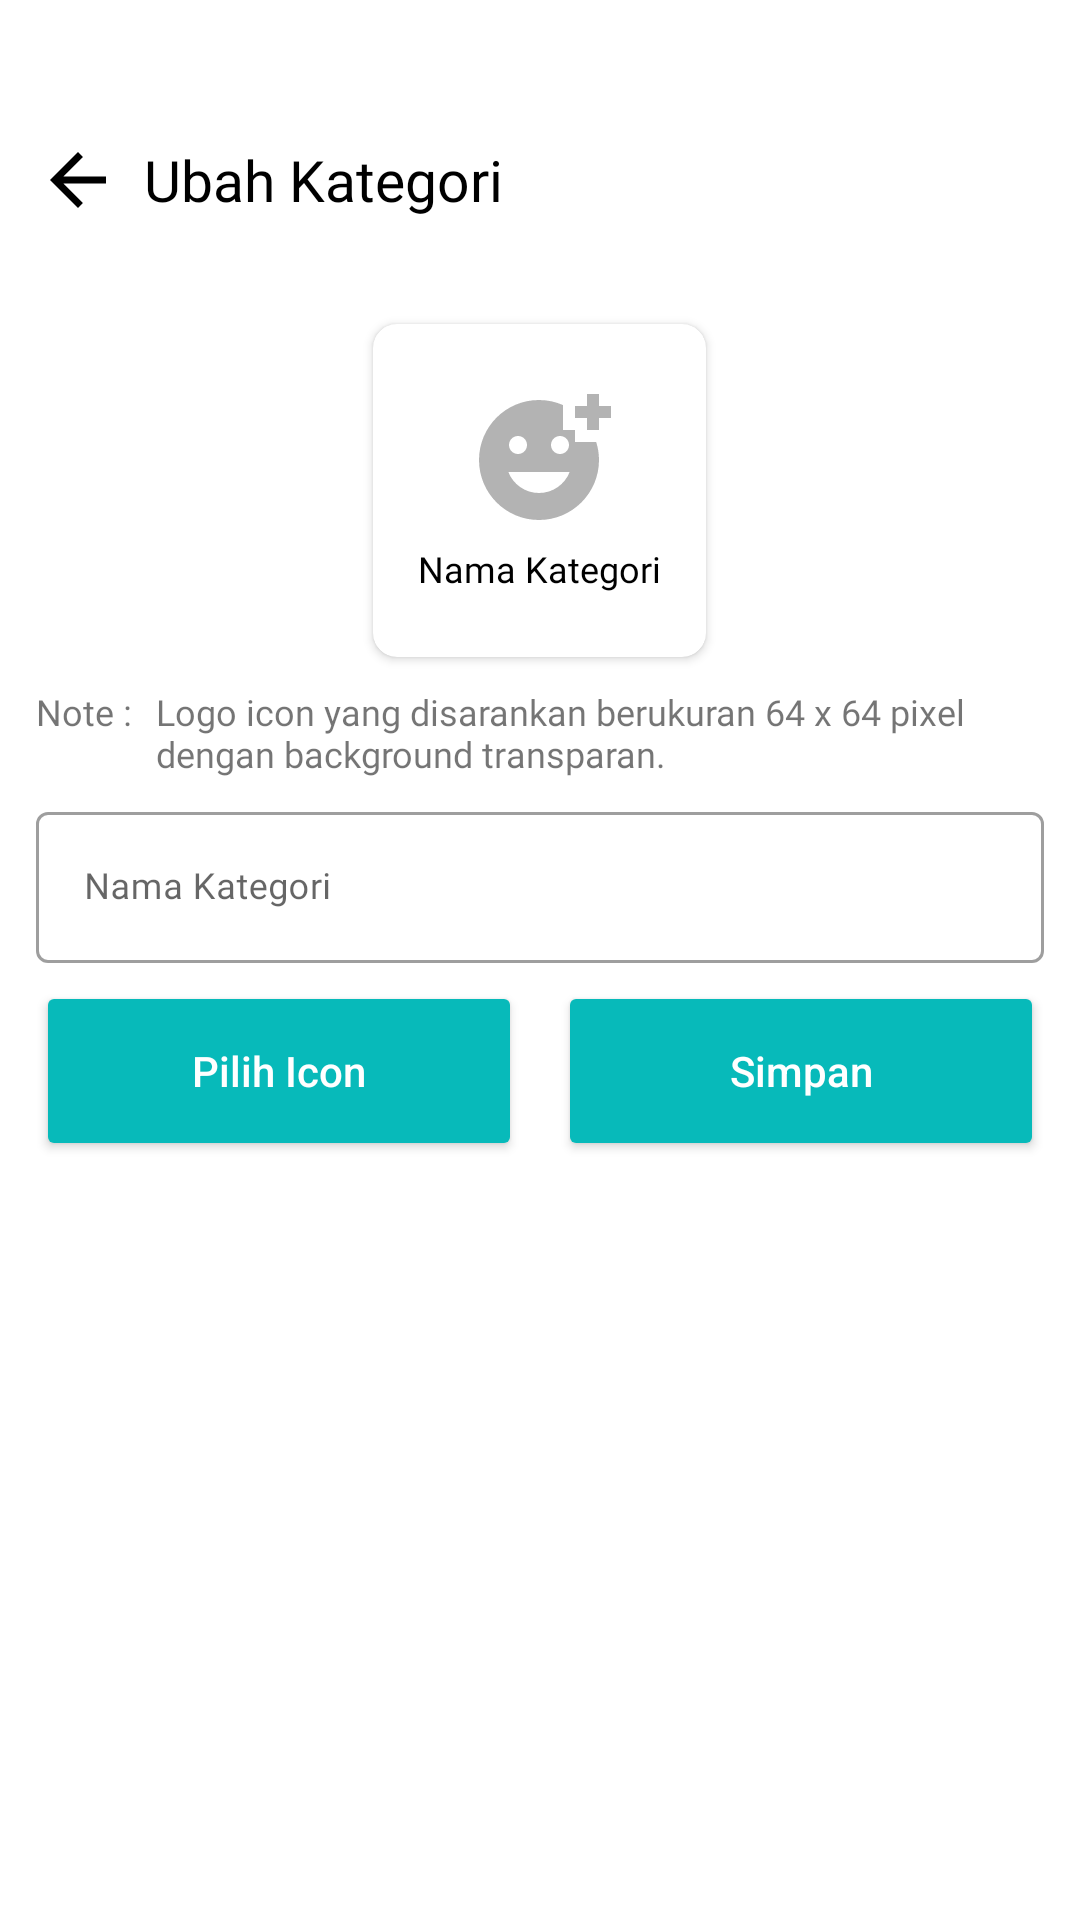

Where to tap for icons on this 1080*1920 app screen, as (x,y):
add: (545,457)
arrow back: (78,180)
